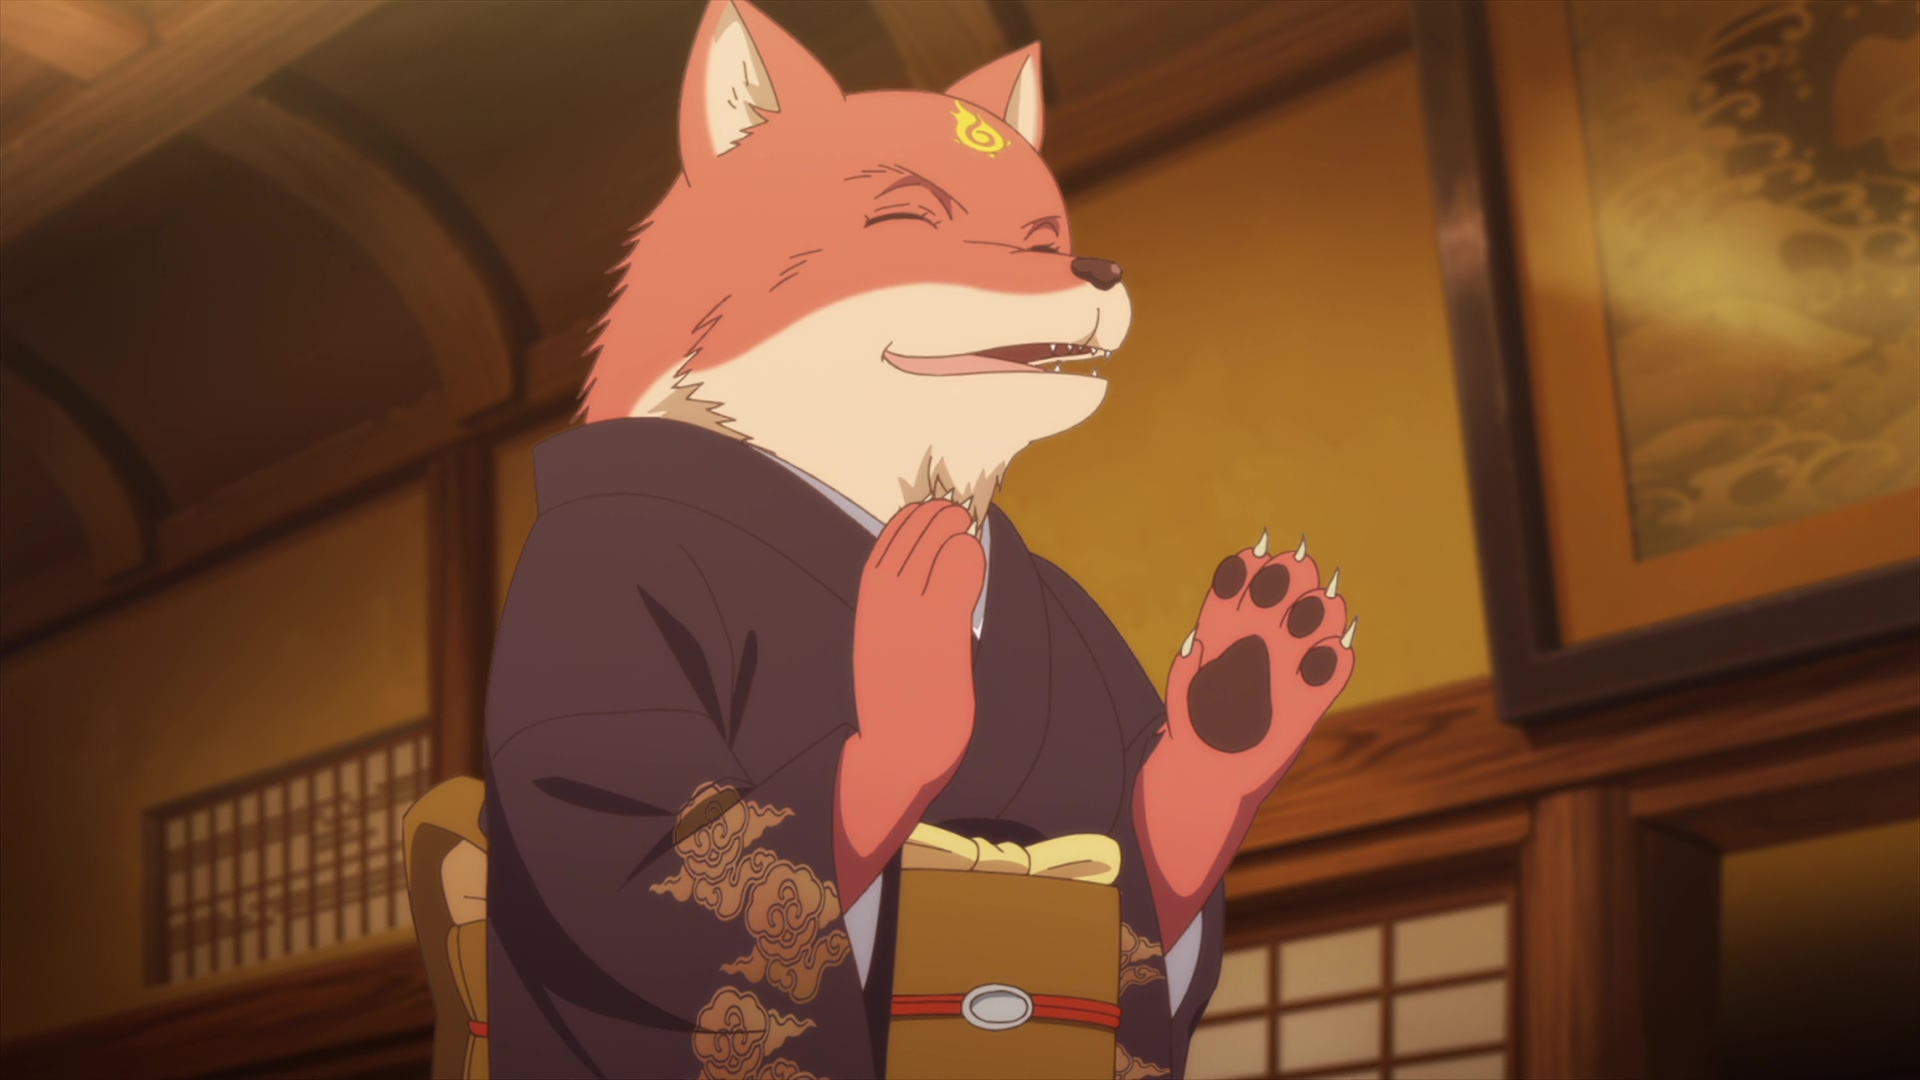椿: (400, 1, 1360, 1080)
